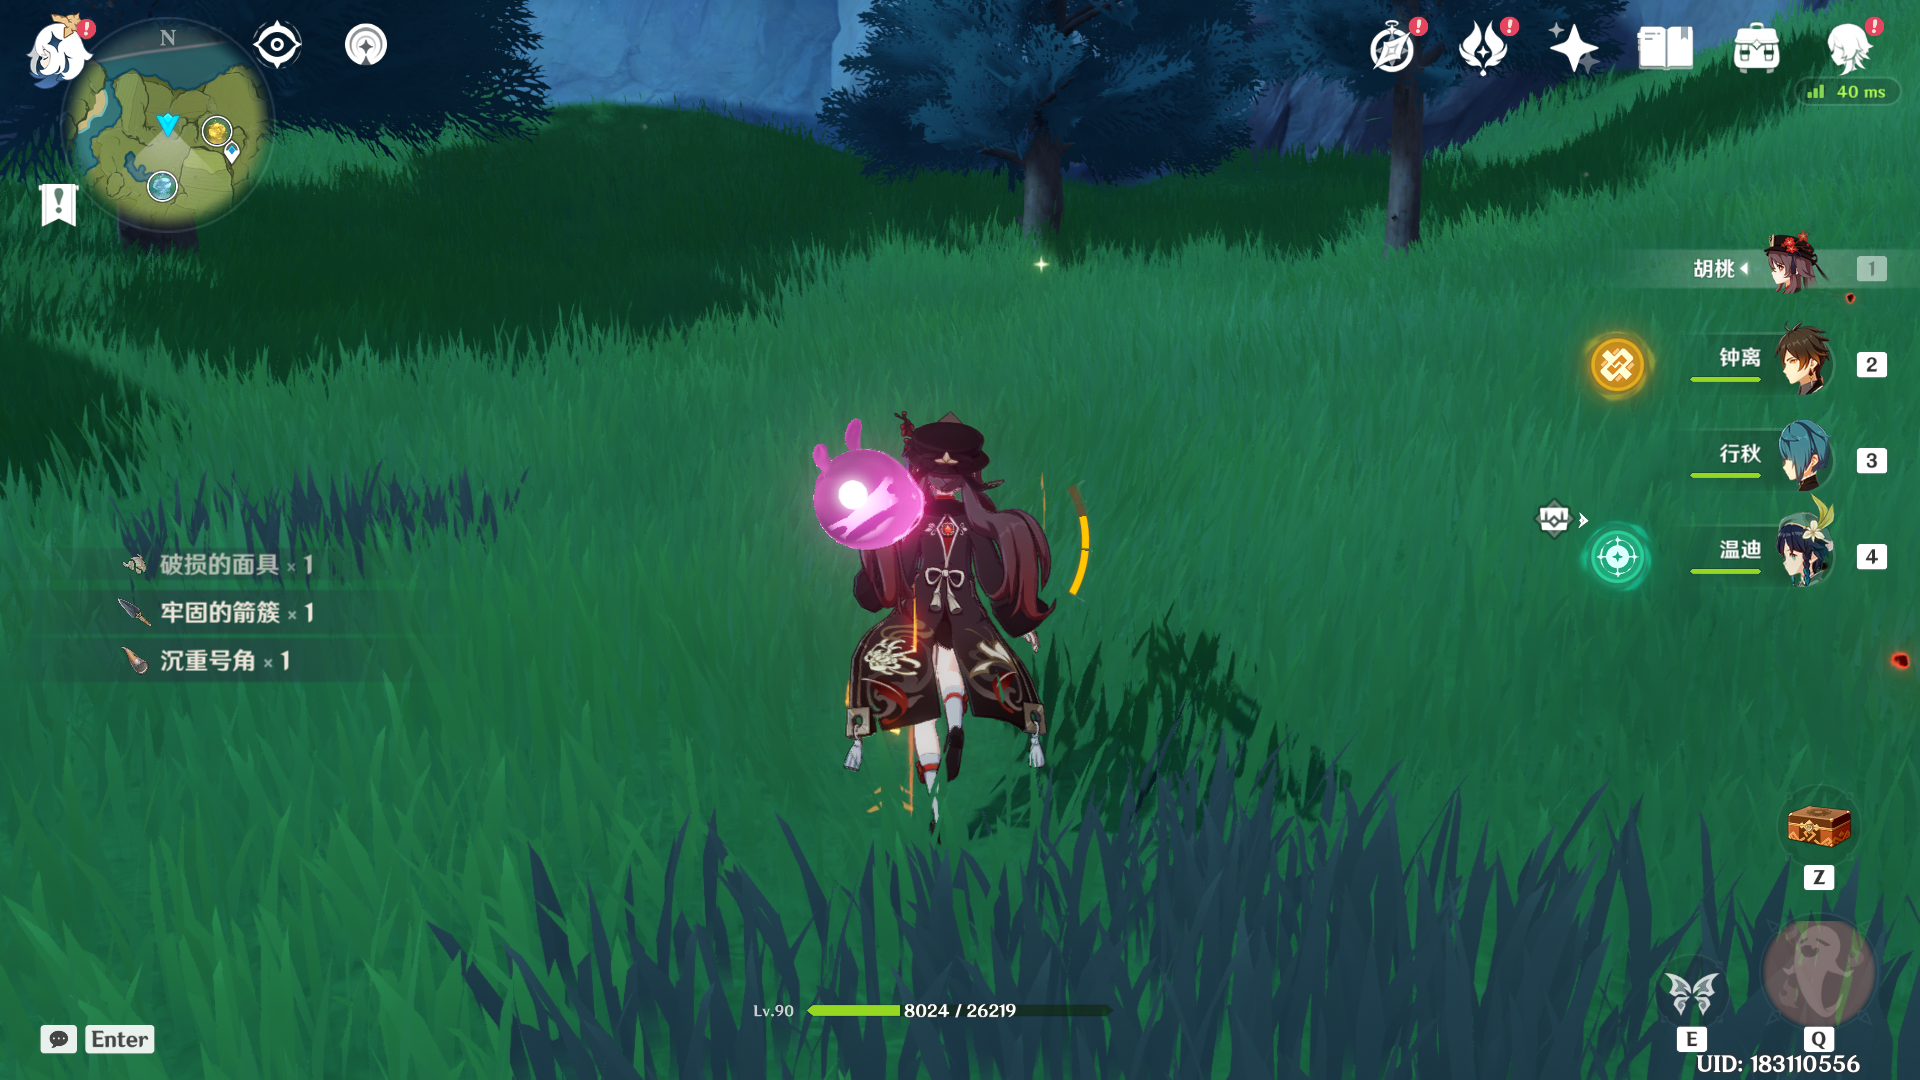character: (829, 400, 1088, 872)
